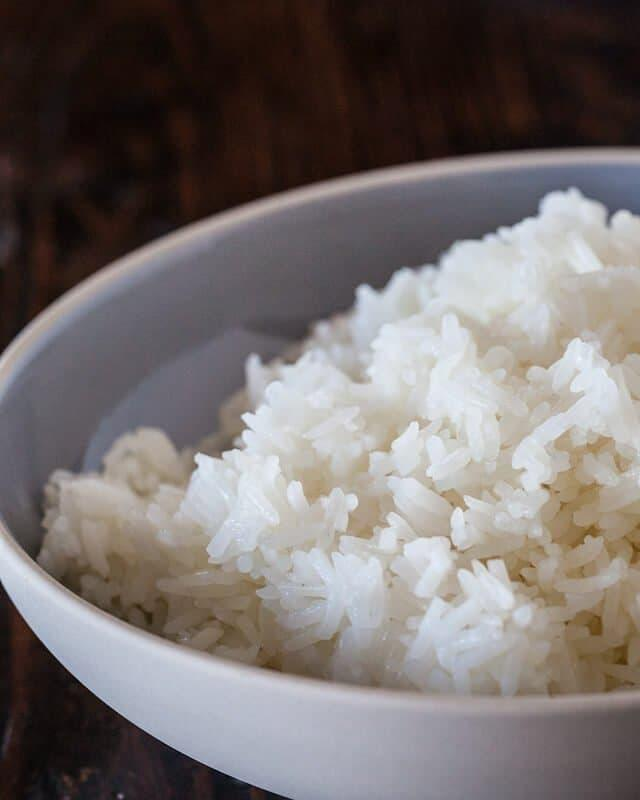rice: (27, 196, 640, 694)
